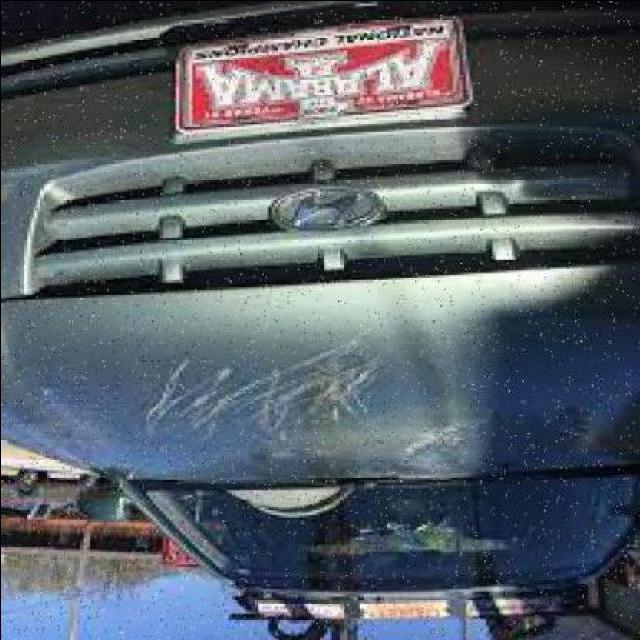bonnet-dent: (2, 272, 629, 470)
